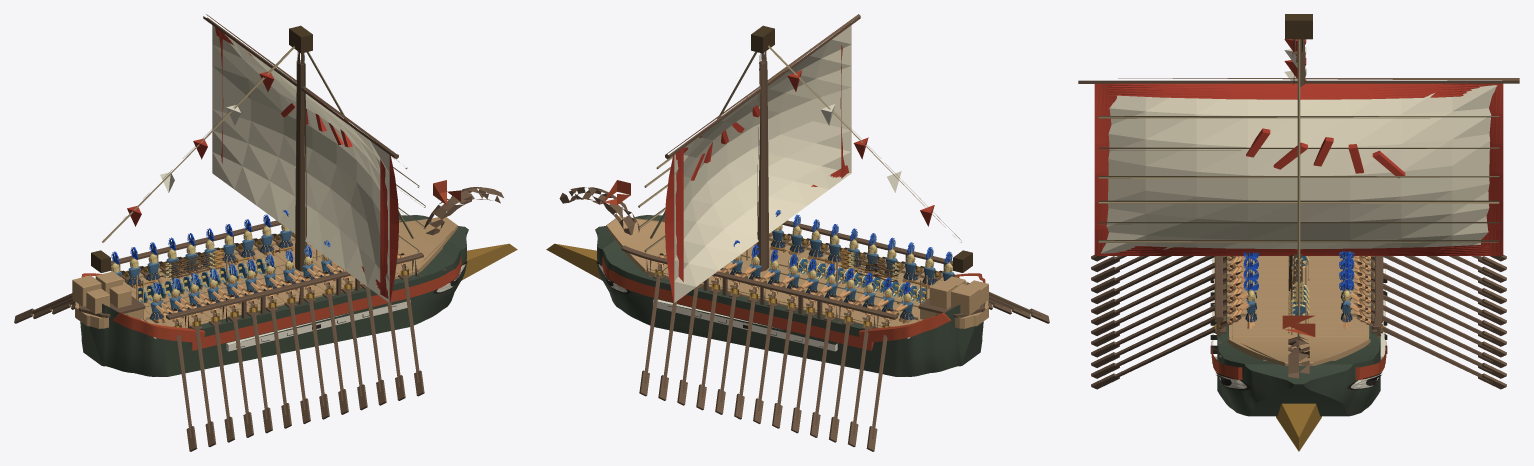
File: warship-battle-v10.glb
The picture shows the model from 3 angles, left to right: view 1: azimuth 30°, elevation 25°; view 2: azimuth 150°, elevation 25°; view 3: azimuth 270°, elevation 25°; orthographic projection. The views are drawn at different scales.
Parts seen in each view (by area): view 1: sail, hull-low, n27, mast, n295, Bow transfer deck, n253, n289, n31, n29, n59, hull-prow (+5 smaller); view 2: sail, hull-low, n3, mast, n293, Bow transfer deck, n233, n289, n7, n5, n59, hull-prow (+6 smaller); view 3: sail, hull-low, n297, n299, n293, n295, n289, Bow transfer deck, n305, hull-prow, n301, n325 (+38 smaller).
Boxes of the visible parts, x1,y1,x2,y2 form: sail: (212,25,389,302); hull-low: (80,215,468,376); n27: (189,256,461,350); mast: (295,60,307,271); n295: (380,155,398,301); Bow transfer deck: (398,217,457,272); n253: (166,252,423,319); n289: (203,14,398,159); n31: (226,300,410,351); n29: (113,312,205,342); n59: (424,187,503,235); hull-prow: (462,243,517,280); sail: (674,25,851,302); hull-low: (595,215,983,376); n3: (602,256,873,350); mast: (757,60,769,271); n293: (665,145,683,301); Bow transfer deck: (606,216,666,272); n233: (621,245,897,319); n289: (665,14,860,159); n7: (653,299,837,351); n5: (858,312,950,342); n59: (559,187,639,235); hull-prow: (546,243,601,280); sail: (1100,85,1497,253); hull-low: (1217,256,1380,416); n297: (1108,83,1495,99); n299: (1098,244,1490,255); n293: (1481,83,1503,255); n295: (1094,83,1116,255); n289: (1078,78,1519,83); Bow transfer deck: (1227,339,1370,365); n305: (1098,200,1499,203); hull-prow: (1276,403,1321,451); n301: (1098,240,1499,242); n325: (1297,39,1300,347).
Bounding box in the file's own units: 6.24 × 4.2 × 4.72.
